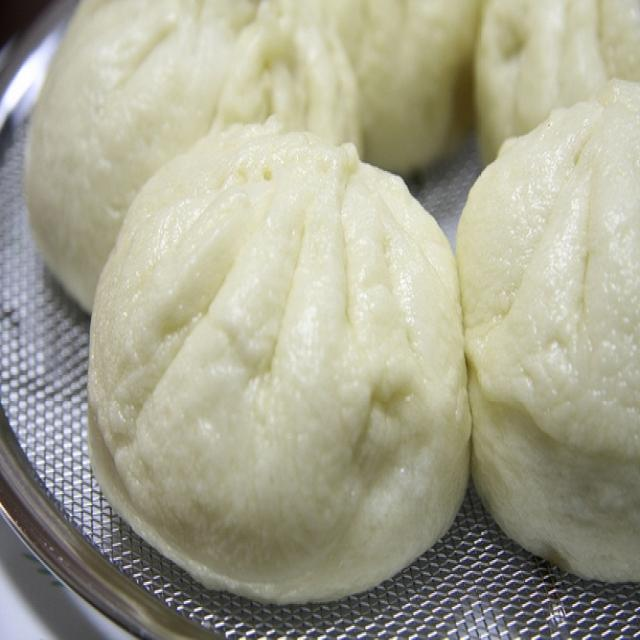带馅早点: (25, 27, 625, 618)
